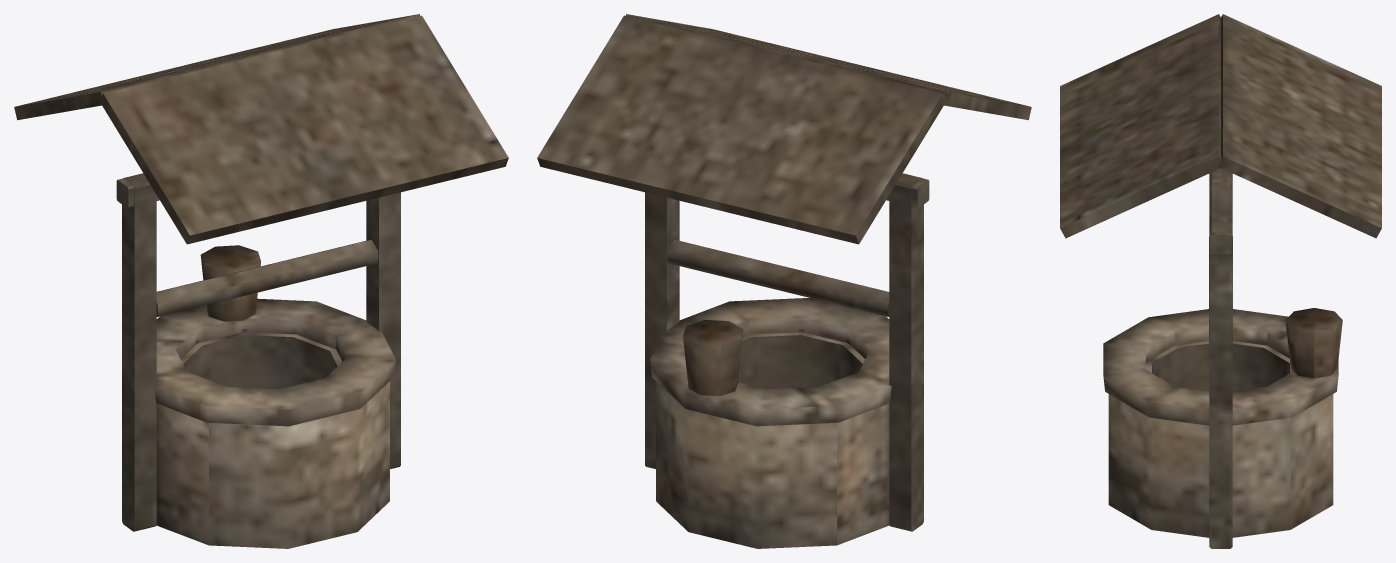
Rendered from b_well_xfar.glb.
The picture shows the model from 3 angles, left to right: view 1: azimuth 30°, elevation 25°; view 2: azimuth 150°, elevation 25°; view 3: azimuth 270°, elevation 25°; orthographic projection. The views are drawn at different scales.
Visible parts, largest first — view 1: b_well_xfar; view 2: b_well_xfar; view 3: b_well_xfar.
Boxes of the visible parts, <box> form: b_well_xfar: <box>14,14,508,548</box>; b_well_xfar: <box>537,14,1031,548</box>; b_well_xfar: <box>1060,14,1381,548</box>.
Bounding box in the file's own units: 1.88 × 2.49 × 1.8.
1 material, 1 textured.
